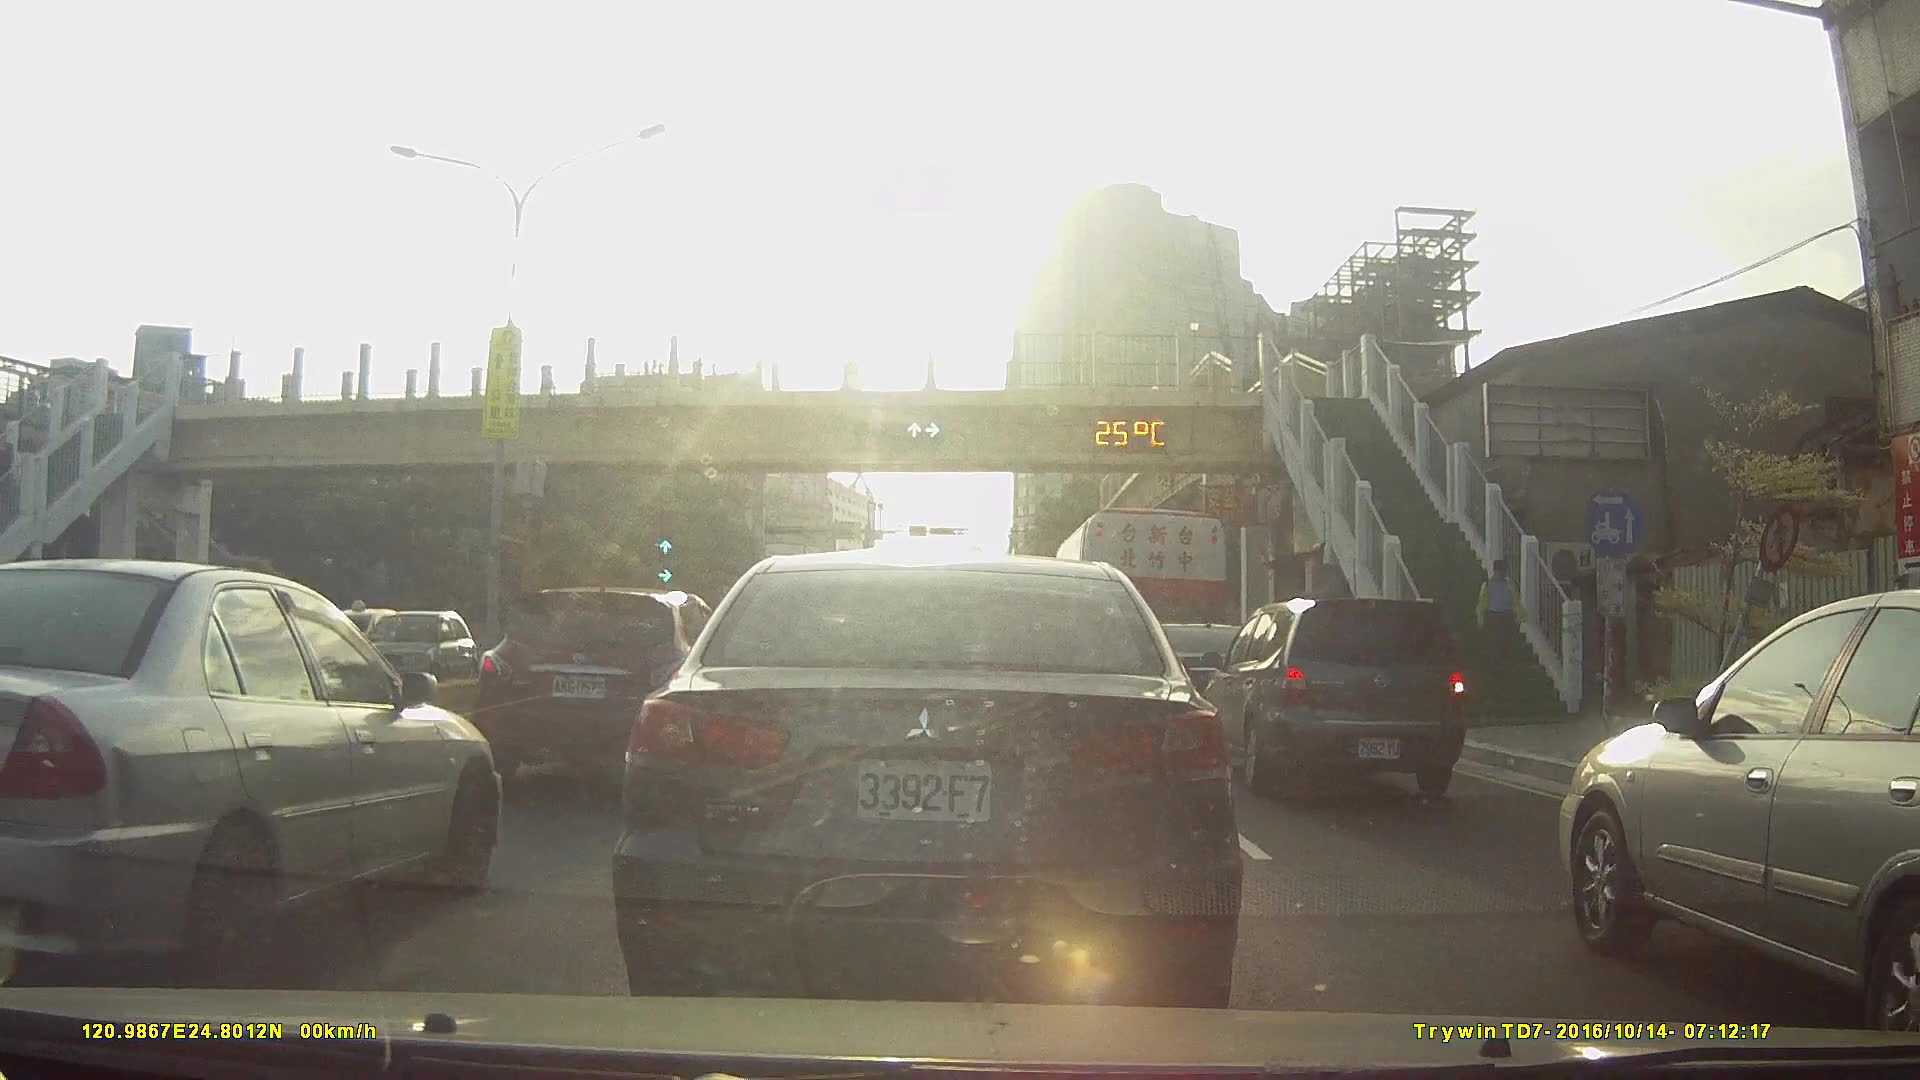pedestrian: (1477, 555, 1525, 663)
vehicle: (611, 552, 1245, 1007), (1, 560, 509, 978), (1549, 584, 1920, 1052), (1198, 597, 1479, 799), (477, 585, 739, 784), (1103, 615, 1273, 731), (333, 607, 494, 702), (282, 605, 405, 690)
